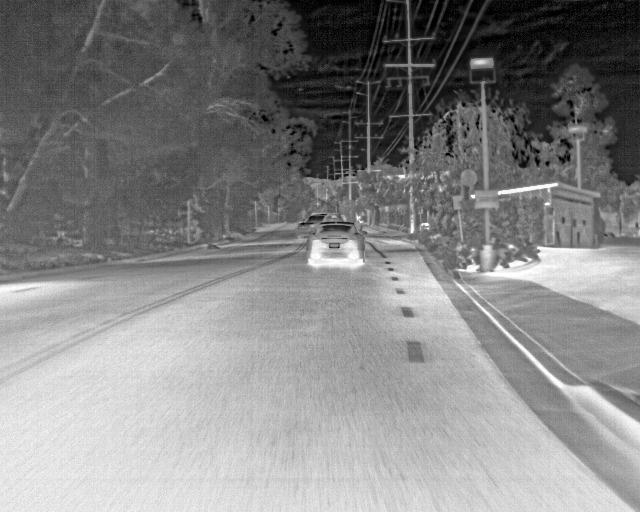car: (305, 220, 366, 271), (297, 210, 344, 237)
